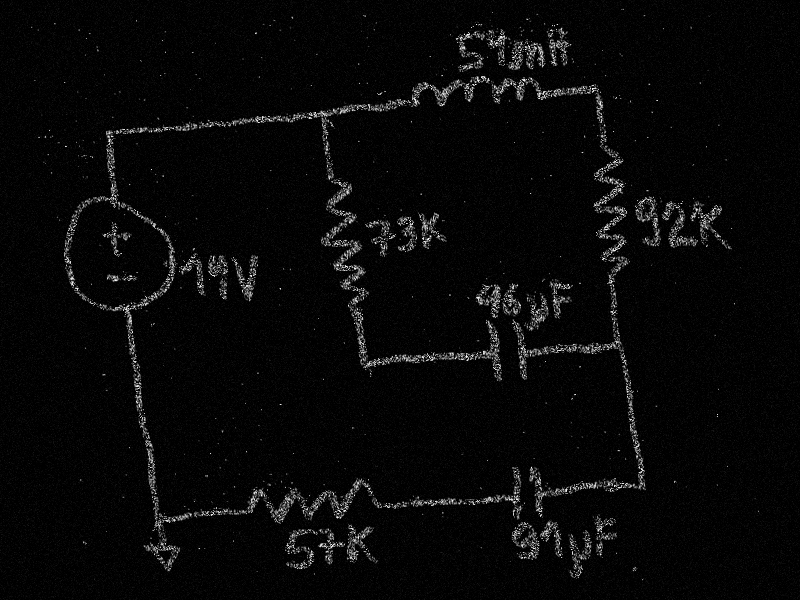-: (103, 272, 139, 284)
1: (177, 252, 207, 300), (537, 519, 567, 562)
2: (659, 199, 698, 250)
3: (393, 213, 419, 255)
4: (205, 252, 232, 302), (472, 280, 503, 321), (484, 27, 507, 68)
5: (281, 526, 322, 571), (452, 31, 488, 72)
6: (499, 281, 523, 318)
7: (362, 219, 398, 258), (315, 527, 347, 567)
9: (629, 195, 665, 252), (508, 519, 542, 562)
F: (591, 515, 621, 560), (548, 281, 576, 321)
H: (543, 26, 573, 69)
V: (229, 255, 263, 302)
k: (693, 199, 731, 252), (344, 521, 378, 567), (416, 210, 450, 248)
m: (505, 37, 548, 73)
u: (565, 531, 596, 579), (520, 293, 551, 332)
